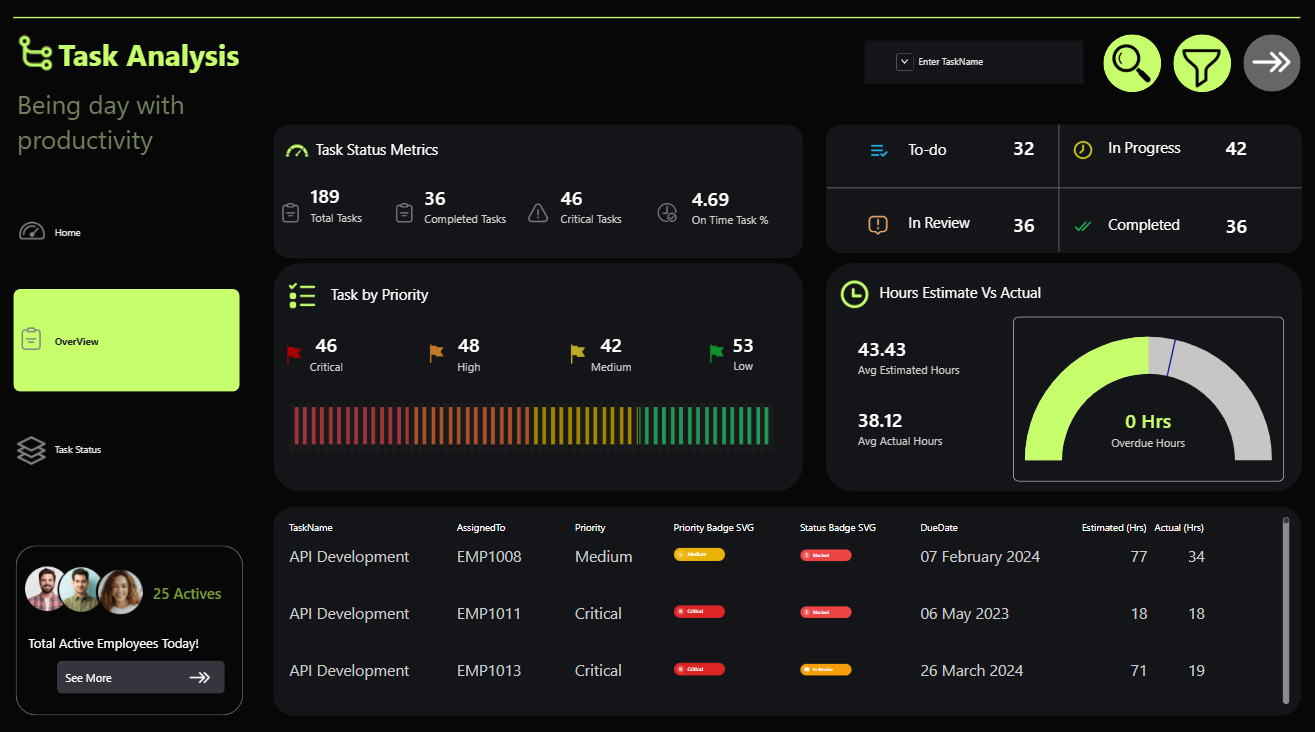

This screenshot's page, from the dashboard's own definition file:
{"tool":"powerbi","page":{"name":"OverView","canvas":[1920,1080],"ordinal":1},"visuals":[{"type":"pageNavigator","box":[23,265,329,465.8],"z":0},{"type":"image","box":[31.3,296.8,40,80],"z":0,"group":"g2"},{"type":"shape","box":[1804.2,52.5,83.2,83.2],"z":1000},{"type":"shape","box":[1601.5,52.5,84,84],"z":2000},{"type":"shape","box":[1702.9,52.5,84,84],"z":3000},{"type":"image","box":[31.4,455.6,37.6,75.1],"z":3000,"group":"g2"},{"type":"shape","box":[399.2,384.4,767,330.8],"z":4000},{"type":"shape","box":[399.2,183,767,194.1],"z":5000},{"type":"image","box":[29.6,620.4,41.7,68.9],"z":5000,"group":"g2"},{"type":"textbox","box":[89.3,52.2,313,71],"z":6000},{"type":"textbox","box":[28.1,128.6,327.1,134.9],"z":7000},{"type":"shape","box":[27.7,792.9,329,245.8],"z":8000},{"type":"shape","box":[86.9,959.3,242.9,48.2],"z":9000},{"type":"image","box":[25.9,796.3,197.2,116.5],"z":10000,"group":"g1"},{"type":"image","box":[279.1,968.5,29.6,31.4],"z":10000},{"type":"group","id":"g1","title":"Group 4","box":[25.9,796.3,321.9,227.3],"z":11000},{"type":"textbox","box":[44.9,920.4,302.8,103.2],"z":11000,"group":"g1"},{"type":"cardVisual","fields":{"Data":["_Measures.Total Tasks"]},"box":[438.4,250.6,131.2,98],"z":12000},{"type":"cardVisual","fields":{"Data":["_Measures.Completed Tasks"]},"box":[602.9,250.6,175.6,101.7],"z":13000},{"type":"cardVisual","fields":{"Data":["_Measures.Critical Tasks"]},"box":[800.7,250.6,170,101.7],"z":14000},{"type":"cardVisual","fields":{"Data":["_Measures.Active_Employee_Label"]},"box":[210,823.4,131.2,75.8],"z":14000,"group":"g1"},{"type":"cardVisual","fields":{"Data":["_Measures.On Time Task %"]},"box":[989.2,257.7,175.6,90.6],"z":15000},{"type":"image","box":[953.7,295.7,33.3,31.4],"z":16000},{"type":"image","box":[573,295.7,32.6,32],"z":17000},{"type":"image","box":[408.5,295.7,32.6,32],"z":18000},{"type":"image","box":[767,295.7,32.6,32],"z":19000},{"type":"image","box":[414,201.5,40,40],"z":20000},{"type":"textbox","box":[462.1,205.2,282.8,31.4],"z":21000},{"type":"textbox","box":[482.4,414,282.8,31.4],"z":22000},{"type":"image","box":[421.4,410.3,40,40],"z":23000},{"type":"shape","box":[1199.5,183,689.4,186.7],"z":24000},{"type":"image","box":[27.7,46.2,60,65],"z":25000},{"type":"cardVisual","fields":{"Data":["_Measures.Critical Tasks"]},"box":[414.4,481.1,125,65],"z":26000},{"type":"cardVisual","fields":{"Data":["_Measures.High Tasks"]},"box":[621.2,481.1,125,65],"z":27000},{"type":"cardVisual","fields":{"Data":["_Measures.Medium Tasks"]},"box":[827.9,481.1,125,65],"z":28000},{"type":"cardVisual","fields":{"Data":["_Measures.Low Tasks"]},"box":[1018,482,123.8,64.7],"z":29000},{"type":"image","box":[1025.4,499.4,33.3,31.4],"z":30000},{"type":"image","box":[824.6,499.2,32.6,32],"z":31000},{"type":"shape","box":[1199.8,383.6,689.5,331.2],"z":32000},{"type":"hundredPercentStackedBarChart","fields":{"Y":["_Measures.Critical Tasks","_Measures.High Tasks","_Measures.Medium Tasks","_Measures.Low Tasks"]},"box":[410.3,530.5,728.2,170],"z":33000},{"type":"image","box":[423.3,584.1,700.5,73.9],"z":34000},{"type":"textbox","box":[1277.2,410.3,282.8,31.4],"z":35000},{"type":"image","box":[1221.7,408.5,40,40],"z":36000},{"type":"cardVisual","fields":{"Data":["_Measures.Average Estimated Hours"]},"box":[1231,471.3,188.5,98],"z":37000},{"type":"cardVisual","fields":{"Data":["_Measures.Average Actual Hours"]},"box":[1231,571.1,175.6,101.7],"z":38000},{"type":"gauge","fields":{"Y":["_Measures.Average Actual Hours"],"TargetValue":["_Measures.Average Estimated Hours"]},"box":[1471.2,462.1,391.8,238.4],"z":39000},{"type":"cardVisual","fields":{"Data":["_Measures.Overdue Hours"]},"box":[1572.9,574.8,188.5,98],"z":40000},{"type":"cardVisual","fields":{"Data":["_Measures.ToDo Task"]},"box":[1393.6,183,125,65],"z":41000},{"type":"cardVisual","fields":{"Data":["_Measures.In Progress Task"]},"box":[1700.4,183,125,65],"z":42000},{"type":"cardVisual","fields":{"Data":["_Measures.In Review Task"]},"box":[1393.6,295.7,125,65],"z":43000},{"type":"cardVisual","fields":{"Data":["_Measures.Completed Tasks"]},"box":[1700.2,297.1,125,65],"z":44000},{"type":"image","box":[414,500.9,32.6,32],"z":45000},{"type":"image","box":[621,499,32,31],"z":46000},{"type":"image","box":[1556.3,314.9,32,31.4],"z":47000},{"type":"image","box":[1261.3,204.5,32.6,32],"z":48000},{"type":"image","box":[1556.3,204.5,32,31.4],"z":49000},{"type":"image","box":[1260,313,32.6,32],"z":50000},{"type":"textbox","box":[1319.2,204.5,97.7,36.2],"z":51000},{"type":"textbox","box":[1608.8,200.9,117.6,36.2],"z":52000},{"type":"textbox","box":[1319.2,309.5,117.6,36.2],"z":53000},{"type":"textbox","box":[1608.8,313.1,117.6,36.2],"z":54000},{"type":"shape","box":[1201.6,245,688,61],"z":55000},{"type":"shape","box":[1518.3,182.8,38,185],"z":56000},{"type":"image","box":[1612.4,67,60,55],"z":57000},{"type":"image","box":[1713.7,74.2,60,55],"z":58000},{"type":"image","box":[1815.1,65.1,60,55],"z":59000},{"type":"textSlicer","fields":{"Values":["Tasks.TaskName"]},"box":[1255.9,61.5,316.7,63.3],"z":60000},{"type":"tableEx","fields":{"Values":["Tasks.TaskName","Tasks.AssignedTo","Tasks.Priority","_Measures.Priority Badge SVG","_Measures.Status Badge SVG","Tasks.DueDate","Sum(Tasks.EstimatedHours)","Sum(Tasks.ActualHours)"]},"box":[400.7,736.7,1488,302.6],"z":61000},{"type":"group","id":"g2","title":"Group 1","box":[29.6,296.8,41.7,392.5],"z":62000},{"type":"shape","box":[23.9,0,1863.4,56.6],"z":63000}]}

Visuals, with their boxes in screenshot pixels (x1, y1, x2, y2), scaled from the page's 1920x1080 canvas onto the 1315x732 screenshot:
pageNavigator: (16, 180, 241, 495)
image: (21, 201, 49, 255)
shape: (1236, 36, 1293, 92)
shape: (1097, 36, 1154, 93)
shape: (1166, 36, 1224, 93)
image: (22, 309, 47, 360)
shape: (273, 261, 799, 485)
shape: (273, 124, 799, 256)
image: (20, 420, 49, 467)
textbox: (61, 35, 276, 84)
textbox: (19, 87, 243, 179)
shape: (19, 537, 244, 704)
shape: (60, 650, 226, 683)
image: (18, 540, 153, 619)
image: (191, 656, 211, 678)
"Group 4" group: (18, 540, 238, 694)
textbox: (31, 624, 238, 694)
cardVisual - _Measures.Total Tasks: (300, 170, 390, 236)
cardVisual - _Measures.Completed Tasks: (413, 170, 533, 239)
cardVisual - _Measures.Critical Tasks: (548, 170, 665, 239)
cardVisual - _Measures.Active_Employee_Label: (144, 558, 234, 609)
cardVisual - _Measures.On Time Task %: (677, 175, 798, 236)
image: (653, 200, 676, 222)
image: (392, 200, 415, 222)
image: (280, 200, 302, 222)
image: (525, 200, 548, 222)
image: (284, 137, 311, 164)
textbox: (316, 139, 510, 160)
textbox: (330, 281, 524, 302)
image: (289, 278, 316, 305)
shape: (822, 124, 1294, 251)
image: (19, 31, 60, 75)
cardVisual - _Measures.Critical Tasks: (284, 326, 369, 370)
cardVisual - _Measures.High Tasks: (425, 326, 511, 370)
cardVisual - _Measures.Medium Tasks: (567, 326, 653, 370)
cardVisual - _Measures.Low Tasks: (697, 327, 782, 371)
image: (702, 338, 725, 360)
image: (565, 338, 587, 360)
shape: (822, 260, 1294, 484)
hundredPercentStackedBarChart - _Measures.Critical Tasks x _Measures.High Tasks: (281, 360, 780, 475)
image: (290, 396, 770, 446)
textbox: (875, 278, 1068, 299)
image: (837, 277, 864, 304)
cardVisual - _Measures.Average Estimated Hours: (843, 319, 972, 386)
cardVisual - _Measures.Average Actual Hours: (843, 387, 963, 456)
gauge - _Measures.Average Actual Hours x _Measures.Average Estimated Hours: (1008, 313, 1276, 475)
cardVisual - _Measures.Overdue Hours: (1077, 390, 1206, 456)
cardVisual - _Measures.ToDo Task: (954, 124, 1040, 168)
cardVisual - _Measures.In Progress Task: (1165, 124, 1250, 168)
cardVisual - _Measures.In Review Task: (954, 200, 1040, 244)
cardVisual - _Measures.Completed Tasks: (1164, 201, 1250, 245)
image: (284, 339, 306, 361)
image: (425, 338, 447, 359)
image: (1066, 213, 1088, 235)
image: (864, 139, 886, 160)
image: (1066, 139, 1088, 160)
image: (863, 212, 885, 234)
textbox: (904, 139, 970, 163)
textbox: (1102, 136, 1182, 161)
textbox: (904, 210, 984, 234)
textbox: (1102, 212, 1182, 237)
shape: (823, 166, 1294, 207)
shape: (1040, 124, 1066, 249)
image: (1104, 45, 1145, 83)
image: (1174, 50, 1215, 88)
image: (1243, 44, 1284, 81)
textSlicer - Tasks.TaskName: (860, 42, 1077, 85)
tableEx - Tasks.TaskName x Tasks.AssignedTo: (274, 499, 1294, 704)
"Group 1" group: (20, 201, 49, 467)
shape: (16, 0, 1293, 38)
